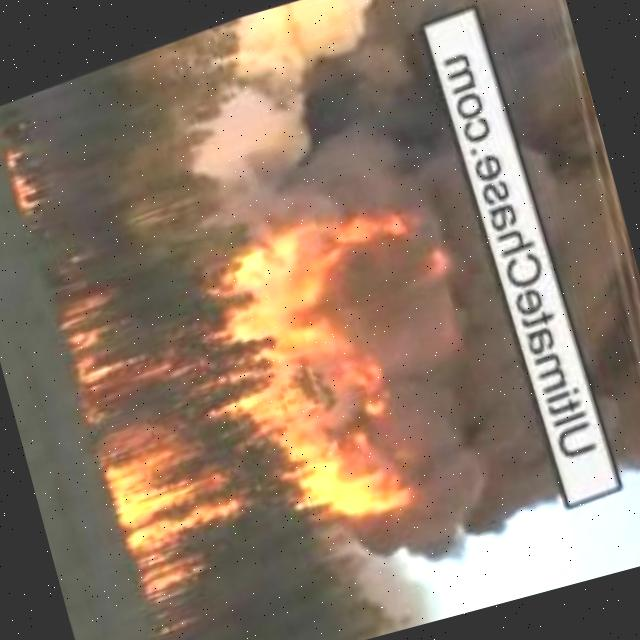fire: (205, 183, 483, 546), (37, 249, 251, 607), (0, 133, 48, 223)
